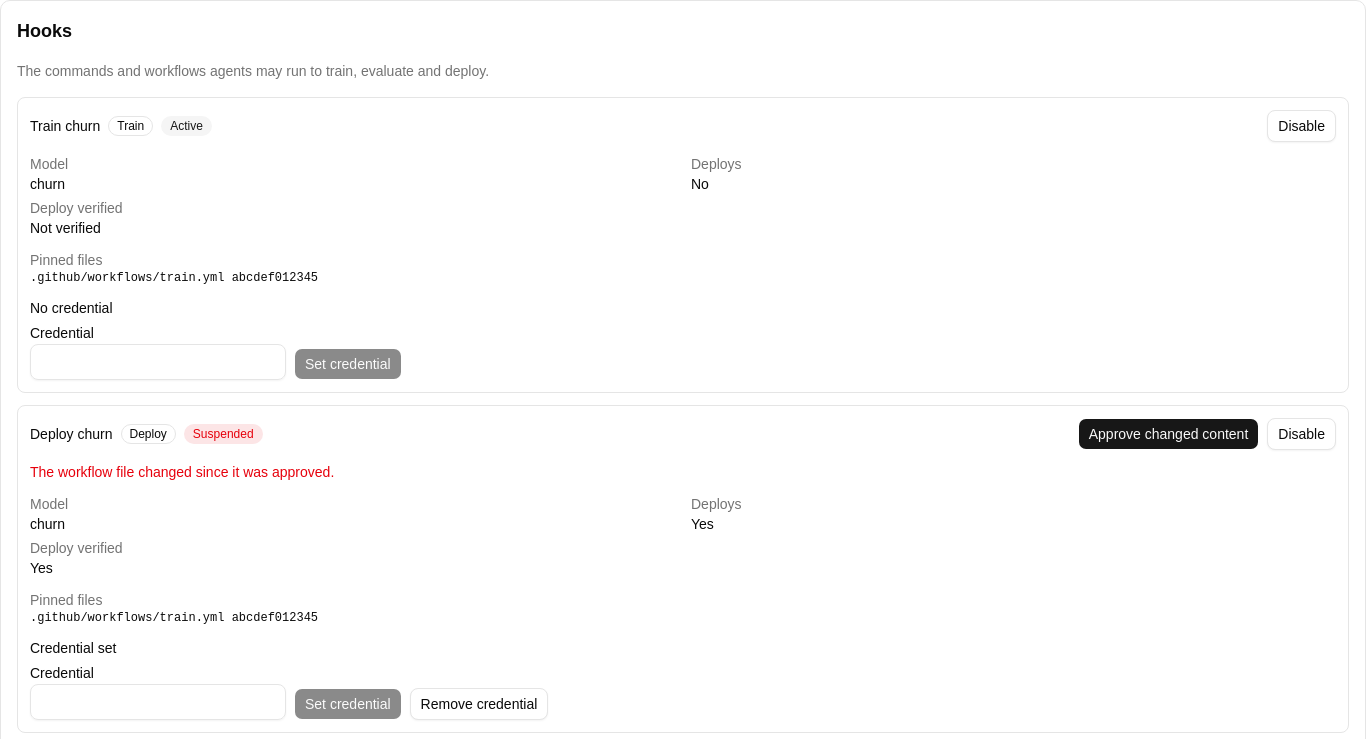
it: HooksSection › shows a refused credential without the secret, clears the field and does not retry
Type "tok-super-secret-9f2" into the password field labelled "Credential" below "No credential" at [158, 362], box [30, 344, 286, 380]
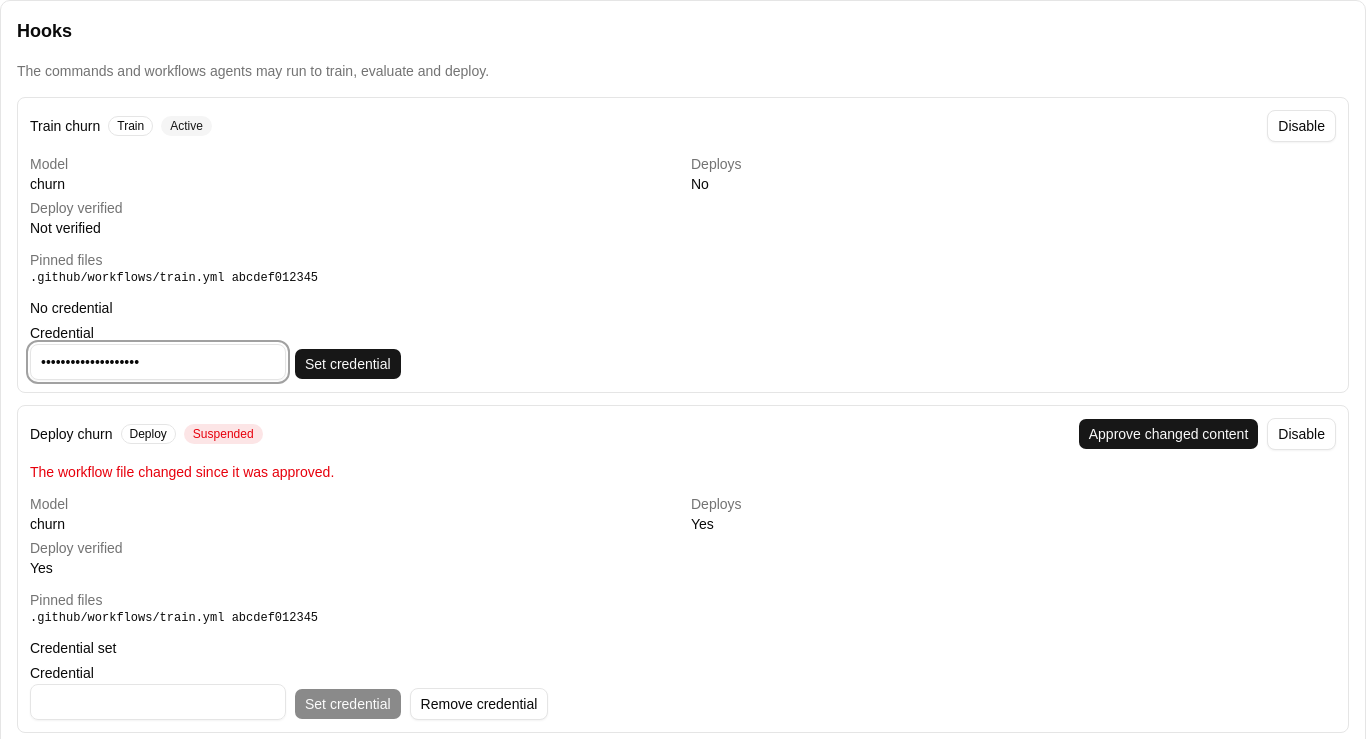
Click the button "Set credential" below "No credential" at [348, 364], box [294, 348, 402, 380]
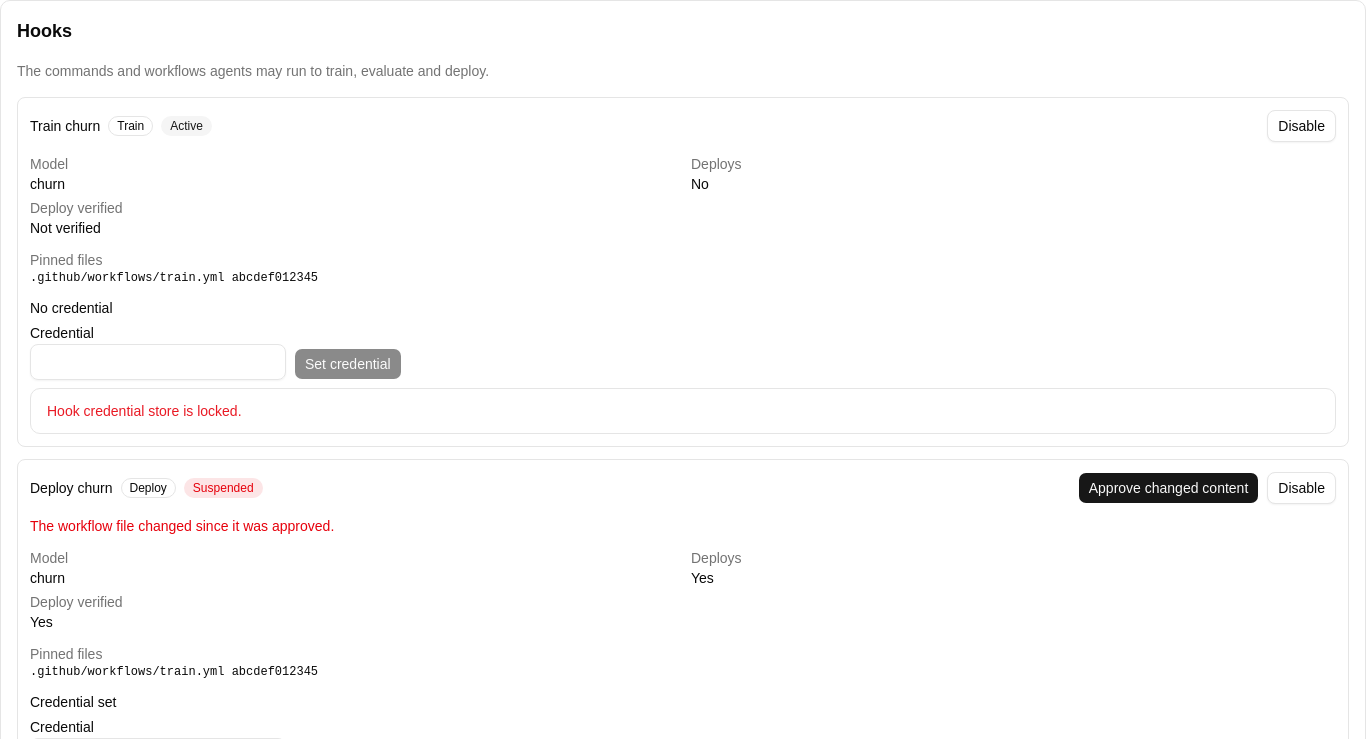
Now the text "Hook credential store is locked." is shown, box [47, 403, 242, 419]
Now the password field labelled "Credential" below "No credential" is empty, box [30, 344, 286, 380]
